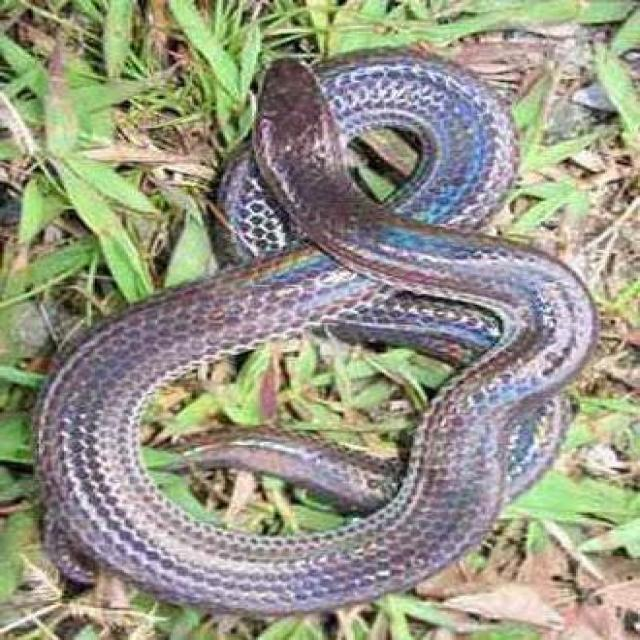Non-Venomous: (238, 49, 427, 266)
